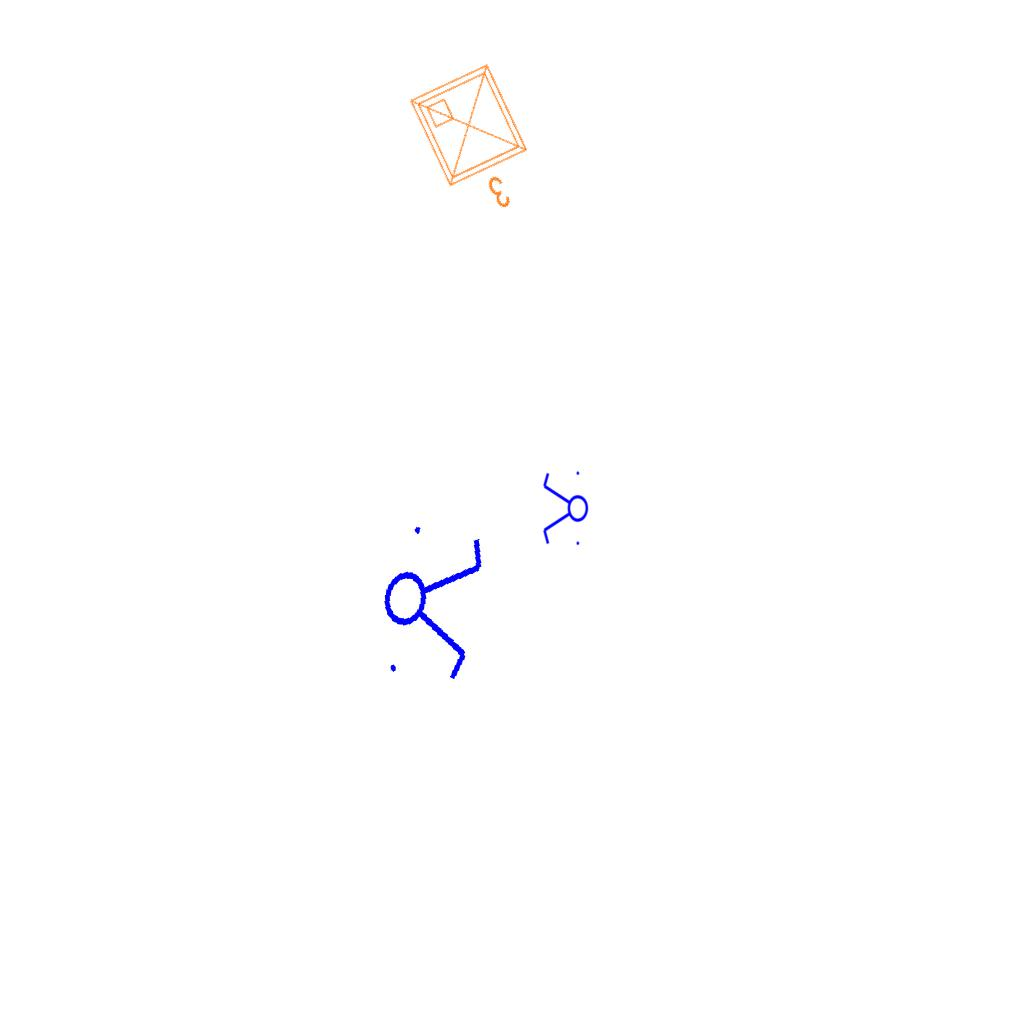Einbaudownlights_LED_Konferenzraeume: (400, 53, 558, 233)
Serienschalter: (369, 510, 493, 694), (541, 467, 589, 551)
